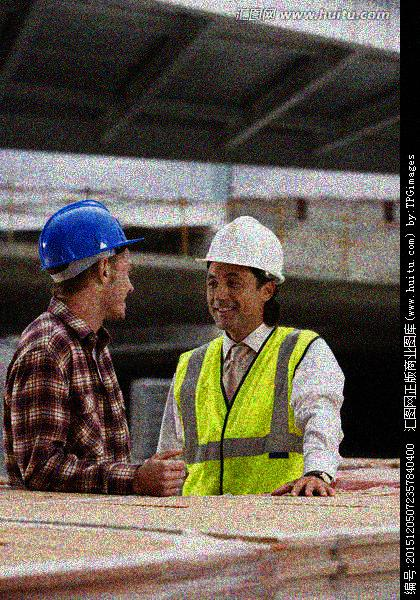helmet: (34, 199, 144, 322), (193, 214, 288, 331)
